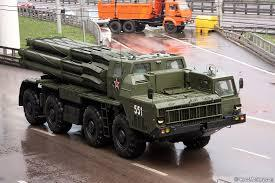MIL_SAM_TEL: (17, 32, 246, 156)
